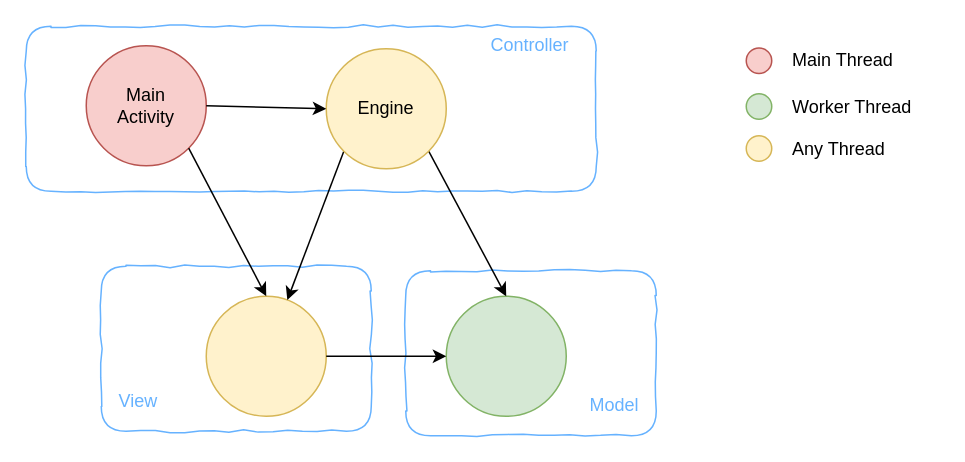
Image size: 965x462. Some labels were removed from this diagram. Each missing label, with the centre of its shape:
Arena View: (x=265, y=355)
Bouncing Ball: (x=505, y=355)
